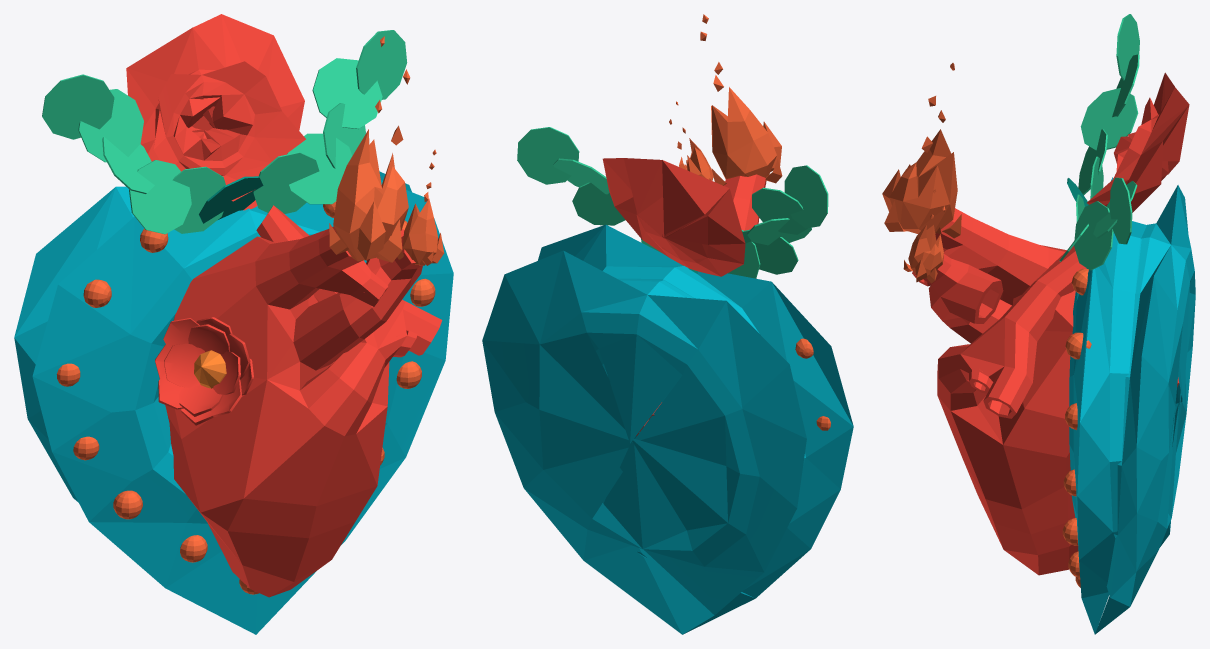
The model's file is oahackVR.obj.
The picture shows the model from 3 angles, left to right: view 1: azimuth 30°, elevation 25°; view 2: azimuth 150°, elevation 25°; view 3: azimuth 270°, elevation 25°; orthographic projection. The views are drawn at different scales.
Parts seen in each view (by area): view 1: Heart, mesh677774601.001, mesh410143615.001, campfire, mesh1189500793.001, pCube13, mesh994756808.001, mesh710871717.001, mesh2115928318.001, mesh1427291044.001, mesh1659870527.001, mesh1205645518.001 (+8 smaller); view 2: mesh1189500793.001, mesh677774601.001, mesh410143615.001, campfire, mesh1659870527.001, mesh994756808.001, mesh1554290657.001, mesh292907403.001, Heart, mesh710871717.001, mesh2115928318.001, mesh1873364659.001 (+1 smaller); view 3: Heart, mesh1189500793.001, mesh677774601.001, campfire, mesh410143615.001, mesh1873364659.001, mesh292907403.001, mesh1659870527.001, mesh994756808.001, mesh710871717.001, mesh1554290657.001, mesh2115928318.001.
Part boxes in pixels (x1,y1,x2,y2): Heart: (165,205,442,597); mesh677774601.001: (32,180,453,634); mesh410143615.001: (126,14,305,210); campfire: (329,36,444,265); mesh1189500793.001: (14,171,411,502); pCube13: (155,317,253,425); mesh994756808.001: (42,74,114,139); mesh710871717.001: (129,160,191,234); mesh2115928318.001: (312,58,382,129); mesh1427291044.001: (287,133,352,204); mesh1659870527.001: (356,30,407,99); mesh1205645518.001: (253,152,319,213); mesh1189500793.001: (482,250,806,634); mesh677774601.001: (538,224,853,634); mesh410143615.001: (602,158,745,276); campfire: (669,14,782,185); mesh1659870527.001: (517,127,579,184); mesh994756808.001: (784,165,828,228); mesh1554290657.001: (752,187,807,234); mesh292907403.001: (572,182,625,225); Heart: (636,174,766,436); mesh710871717.001: (742,229,798,274); mesh2115928318.001: (553,158,609,194); mesh1873364659.001: (747,218,811,245); Heart: (912,208,1179,575); mesh1189500793.001: (1095,185,1195,634); mesh677774601.001: (1069,177,1146,634); campfire: (882,63,961,283); mesh410143615.001: (1087,72,1189,212); mesh1873364659.001: (1080,88,1138,150); mesh292907403.001: (1074,201,1113,270); mesh1659870527.001: (1109,177,1132,244); mesh994756808.001: (1116,14,1139,80); mesh710871717.001: (1078,129,1107,195); mesh1554290657.001: (1112,54,1139,117); mesh2115928318.001: (1093,181,1137,238).
Bounding box in the file's own units: 1.9 × 2.8 × 1.33.
